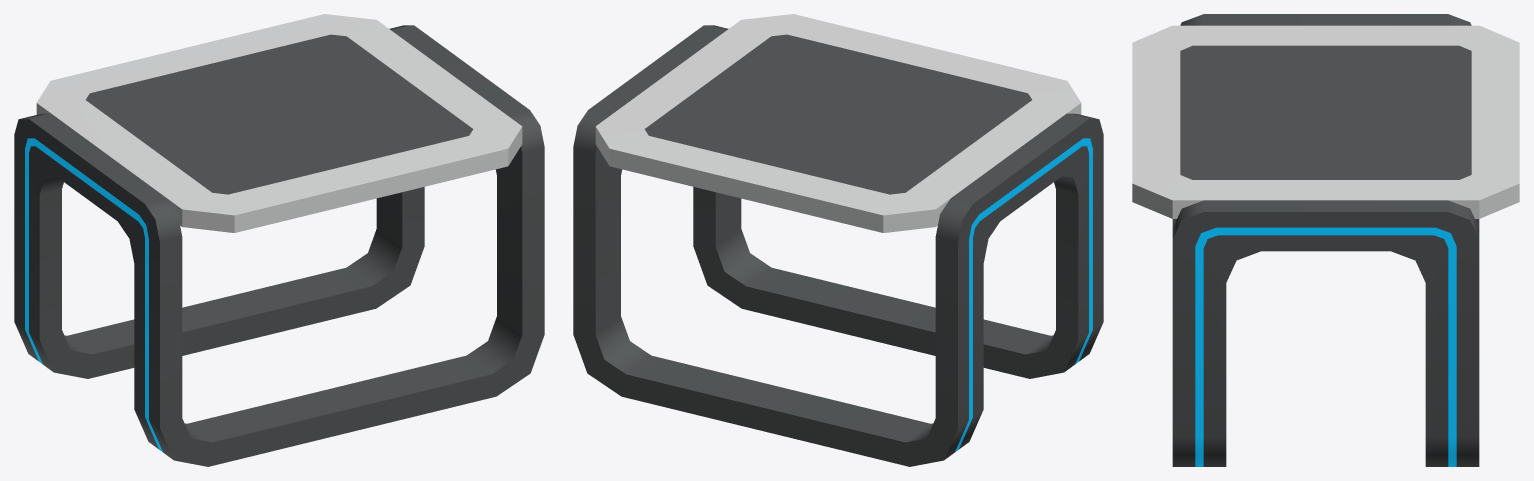
The model's file is Chair_003.glb.
3 views of the same model, side by side, from view 1: azimuth 30°, elevation 25°; view 2: azimuth 150°, elevation 25°; view 3: azimuth 270°, elevation 25° (orthographic). The views are drawn at different scales.
Visible parts, largest first — view 1: Chair_003; view 2: Chair_003; view 3: Chair_003.
Part boxes in pixels (bbox=[...]): Chair_003: bbox=[14, 14, 544, 466]; Chair_003: bbox=[573, 14, 1103, 466]; Chair_003: bbox=[1132, 14, 1519, 466].
Bounding box in the file's own units: 0.6354 × 0.4163 × 0.526.
Materials: 2 (2 with a texture image).
